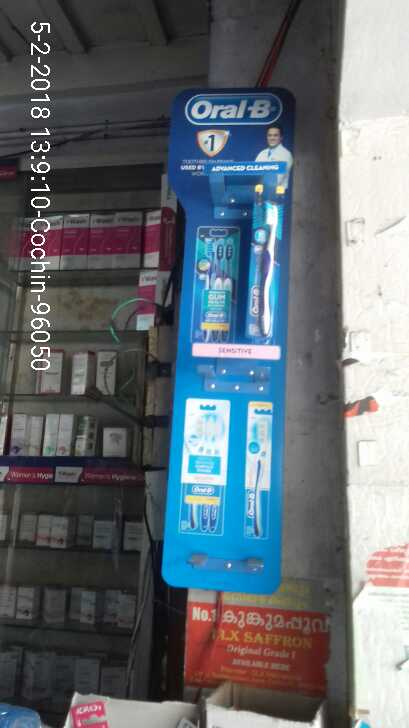oralb: (246, 188, 283, 350)
